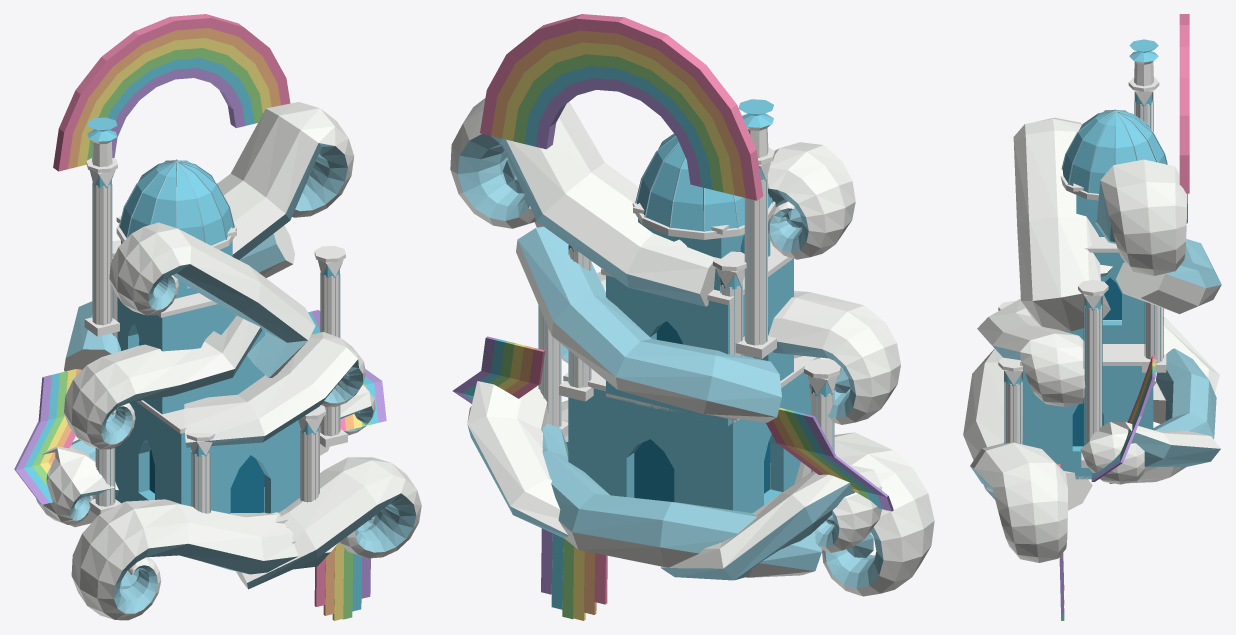
The model's file is building.glb.
The picture shows the model from 3 angles, left to right: view 1: azimuth 30°, elevation 25°; view 2: azimuth 150°, elevation 25°; view 3: azimuth 270°, elevation 25°; orthographic projection. The views are drawn at different scales.
Visible parts, largest first — view 1: Building_Cloud_VolumetricClouds, Building_Cloud_Palace, Building_Cloud_Rainbows, Building_Cloud_Flutes; view 2: Building_Cloud_VolumetricClouds, Building_Cloud_Palace, Building_Cloud_Rainbows, Building_Cloud_Flutes; view 3: Building_Cloud_VolumetricClouds, Building_Cloud_Palace, Building_Cloud_Rainbows, Building_Cloud_Flutes.
Boxes of the visible parts, x1,y1,x2,y2 form: Building_Cloud_VolumetricClouds: (36, 102, 421, 620); Building_Cloud_Palace: (84, 117, 347, 543); Building_Cloud_Rainbows: (14, 14, 386, 620); Building_Cloud_Flutes: (92, 159, 340, 513); Building_Cloud_VolumetricClouds: (450, 98, 934, 596); Building_Cloud_Palace: (534, 99, 841, 512); Building_Cloud_Rainbows: (452, 14, 893, 620); Building_Cloud_Flutes: (538, 133, 834, 472); Building_Cloud_VolumetricClouds: (963, 117, 1221, 562); Building_Cloud_Palace: (996, 39, 1166, 479); Building_Cloud_Rainbows: (1057, 14, 1189, 620); Building_Cloud_Flutes: (1004, 101, 1167, 445).
Bounding box in the file's own units: 1.46 × 2.2 × 0.9482.
